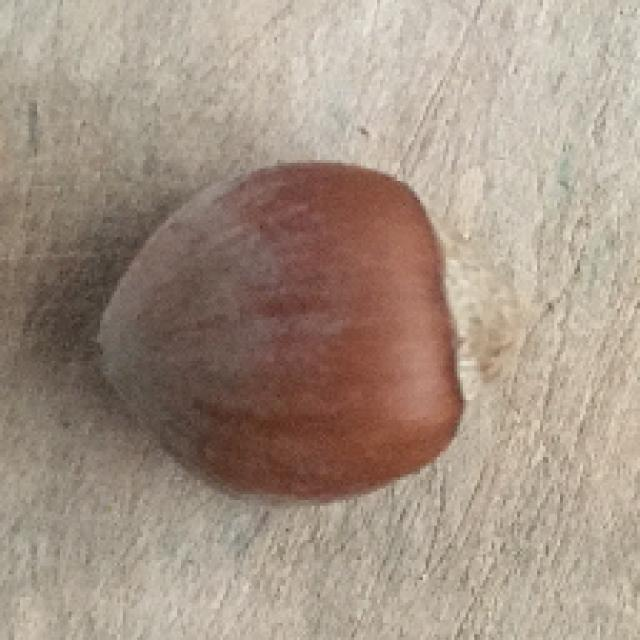qualityHazelnut: (98, 159, 485, 509)
